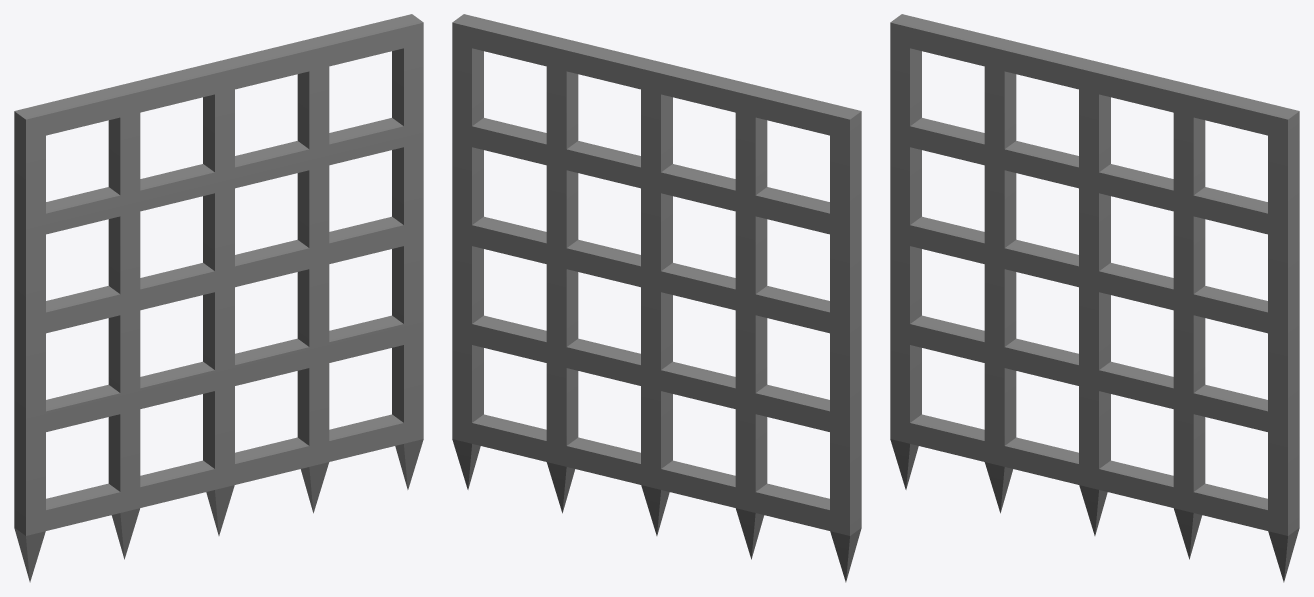
File: Iron_Door.fbx
3 views of the same model, side by side, from view 1: azimuth 30°, elevation 25°; view 2: azimuth 150°, elevation 25°; view 3: azimuth 330°, elevation 25° (orthographic).
Visible parts, largest first — view 1: Iron_Door; view 2: Iron_Door; view 3: Iron_Door.
Part boxes in pixels (x1,y1,x2,y2): Iron_Door: [14, 14, 423, 582]; Iron_Door: [452, 14, 861, 582]; Iron_Door: [890, 14, 1299, 582].
Size of the model in its own units: 140 by 158 by 7.15.
1 material, 1 textured.
